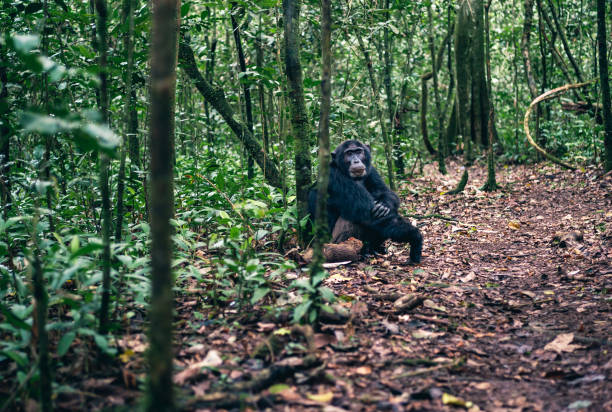chimpanzee: (329, 133, 384, 183)
